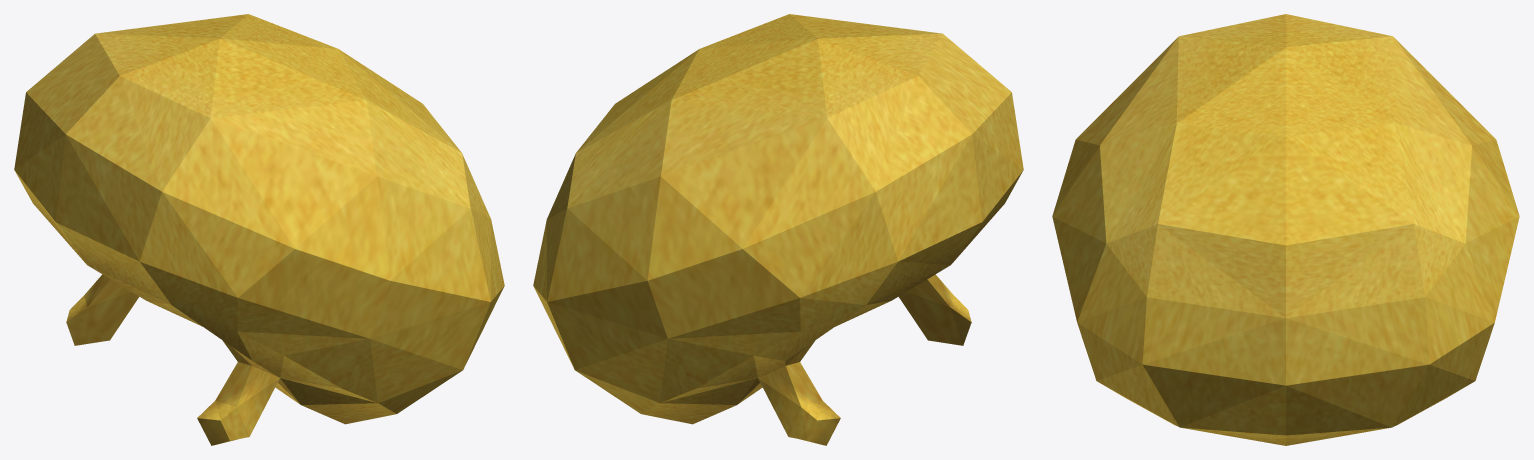
File: Mole_afro.obj
The picture shows the model from 3 angles, left to right: view 1: azimuth 30°, elevation 25°; view 2: azimuth 150°, elevation 25°; view 3: azimuth 270°, elevation 25°; orthographic projection. The views are drawn at different scales.
Parts seen in each view (by area): view 1: Mole_afro_tri; view 2: Mole_afro_tri; view 3: Mole_afro_tri.
Part boxes in pixels (<box>): Mole_afro_tri: <box>14,14,504,445</box>; Mole_afro_tri: <box>533,14,1023,445</box>; Mole_afro_tri: <box>1052,14,1519,445</box>.
Size of the model in its own units: 0.5169 by 0.4723 by 0.5722.
Materials: 1 (1 with a texture image).
